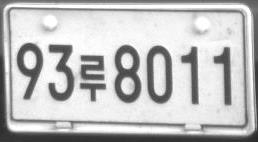0: (145, 44, 173, 104)
1: (211, 46, 239, 106), (178, 46, 206, 105)
3: (47, 43, 75, 102)
8: (113, 44, 142, 104)
9: (15, 42, 44, 99)
루: (78, 54, 106, 101)
